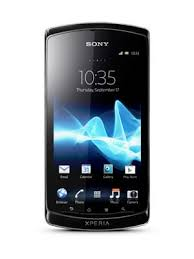sony: (39, 20, 154, 231)
